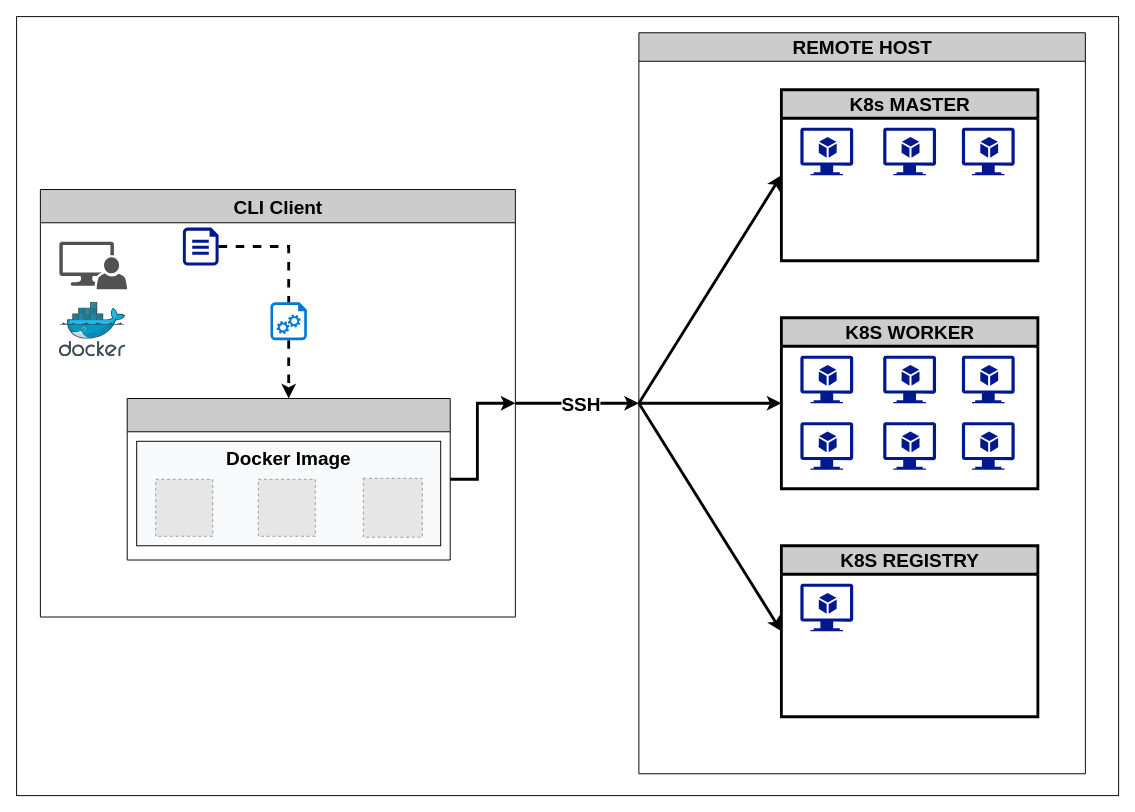
This 1135x812 diagram has some shape labels left out. Grey dashed boxes stand in for pictures. Each missing label, with the box of its shape:
koreon.toml: (182, 227, 218, 265)
koreonctl: (126, 398, 450, 560)
